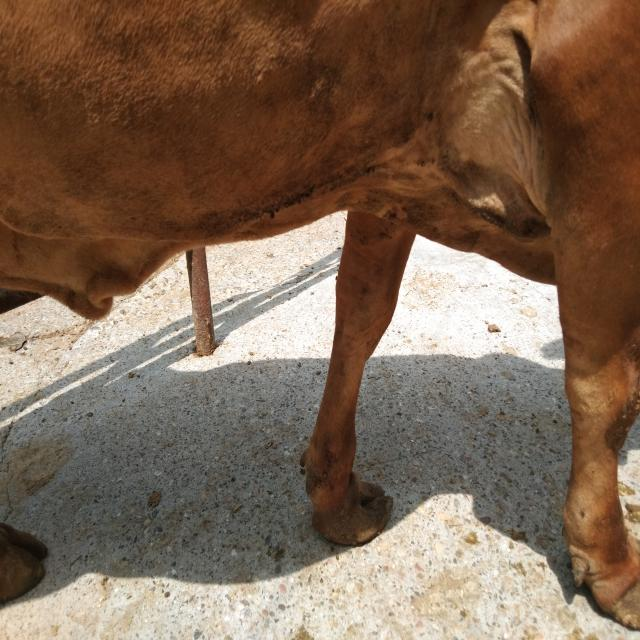Hoof: (299, 447, 393, 546), (561, 525, 639, 630)
